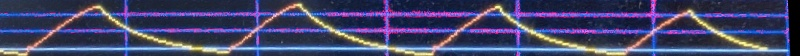normal_volume: (0, 0, 796, 56)
